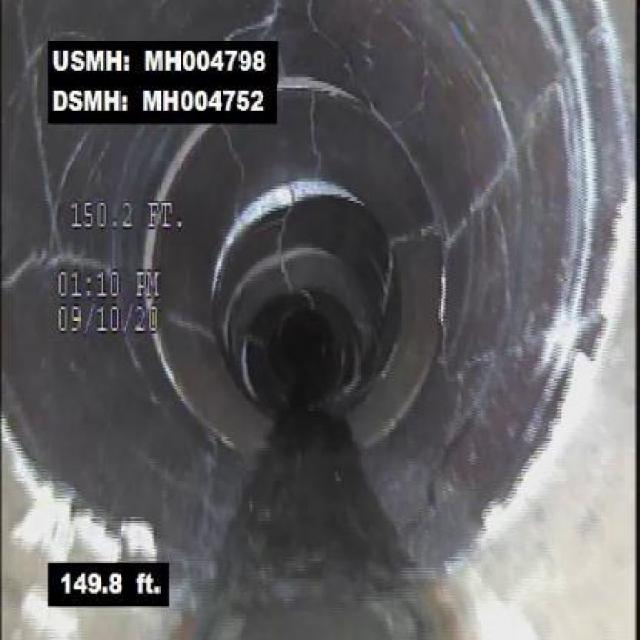Crack: (8, 8, 52, 297), (429, 342, 560, 418), (296, 0, 376, 83), (397, 31, 440, 131)
